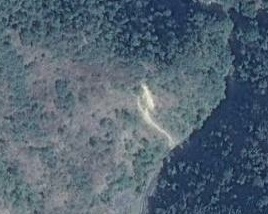slope: (132, 80, 178, 146)
